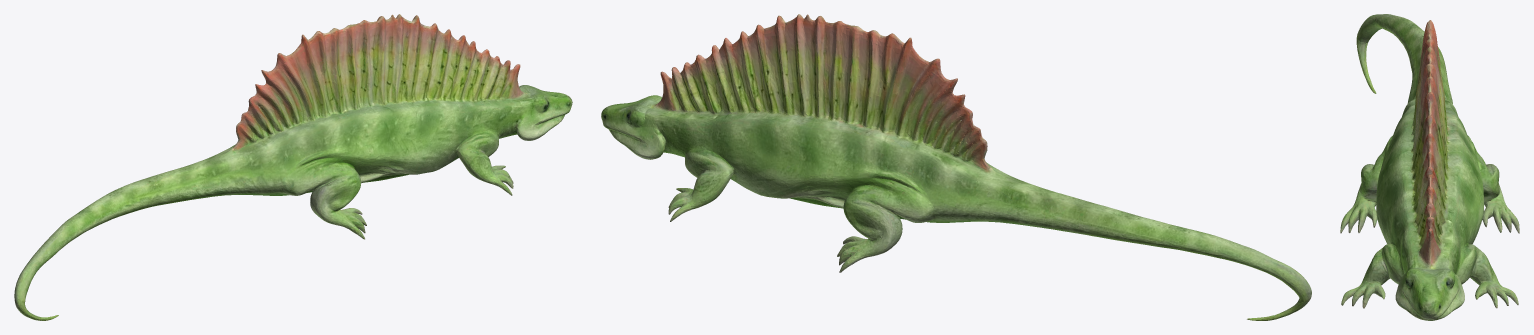
File: dimetrodon.fbx
The picture shows the model from 3 angles, left to right: view 1: azimuth 30°, elevation 25°; view 2: azimuth 150°, elevation 25°; view 3: azimuth 270°, elevation 25°; orthographic projection. The views are drawn at different scales.
Visible parts, largest first — view 1: world; view 2: world; view 3: world.
Boxes of the visible parts, left/top/right/bottom form: world: left=14, top=14, right=572, bottom=320; world: left=601, top=14, right=1311, bottom=320; world: left=1340, top=14, right=1519, bottom=320.
Size of the model in its own units: 199 by 64.29 by 47.35.
1 material, 1 textured.
